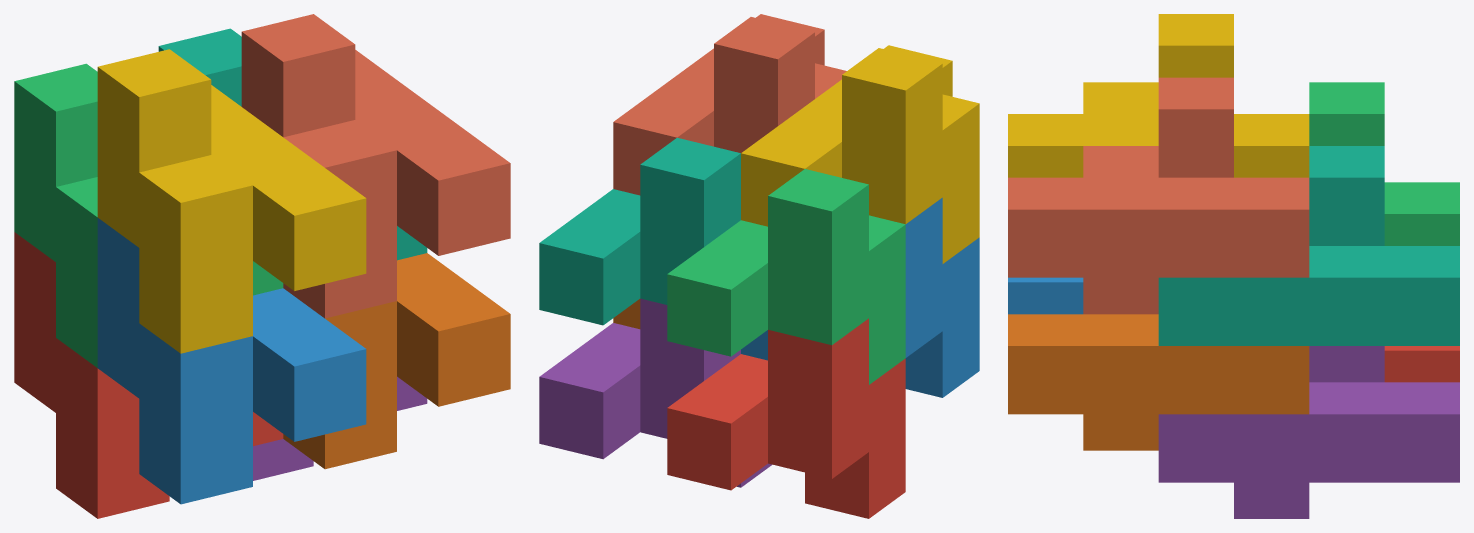
Rendered from tiling.obj.
The picture shows the model from 3 angles, left to right: view 1: azimuth 30°, elevation 25°; view 2: azimuth 150°, elevation 25°; view 3: azimuth 270°, elevation 25°; orthographic projection. The views are drawn at different scales.
Visible parts, largest first — view 1: copy_1_domain_4, copy_1_domain_8, copy_1_domain_2, copy_1_domain_6, copy_1_domain_3, copy_1_domain_1, copy_1_domain_7, copy_1_domain_5; view 2: copy_1_domain_3, copy_1_domain_1, copy_1_domain_4, copy_1_domain_7, copy_1_domain_8, copy_1_domain_5, copy_1_domain_2, copy_1_domain_6; view 3: copy_1_domain_8, copy_1_domain_7, copy_1_domain_5, copy_1_domain_6, copy_1_domain_4, copy_1_domain_3, copy_1_domain_2, copy_1_domain_1.
Boxes of the visible parts, <box> form: copy_1_domain_4: <box>97,49,366,353</box>; copy_1_domain_8: <box>241,14,510,318</box>; copy_1_domain_2: <box>97,218,366,504</box>; copy_1_domain_6: <box>283,253,510,469</box>; copy_1_domain_3: <box>14,63,283,367</box>; copy_1_domain_1: <box>14,232,283,518</box>; copy_1_domain_7: <box>158,28,427,260</box>; copy_1_domain_5: <box>253,376,427,480</box>; copy_1_domain_3: <box>667,169,905,384</box>; copy_1_domain_1: <box>667,318,905,518</box>; copy_1_domain_4: <box>741,45,979,263</box>; copy_1_domain_7: <box>539,137,740,325</box>; copy_1_domain_8: <box>613,14,846,195</box>; copy_1_domain_5: <box>539,298,771,487</box>; copy_1_domain_2: <box>741,197,979,397</box>; copy_1_domain_6: <box>613,299,640,329</box>; copy_1_domain_8: <box>1008,77,1309,314</box>; copy_1_domain_7: <box>1158,146,1459,345</box>; copy_1_domain_5: <box>1158,346,1459,518</box>; copy_1_domain_6: <box>1008,314,1309,450</box>; copy_1_domain_4: <box>1008,14,1309,177</box>; copy_1_domain_3: <box>1309,82,1459,245</box>; copy_1_domain_2: <box>1008,277,1083,314</box>; copy_1_domain_1: <box>1384,346,1459,382</box>.
Bounding box in the file's own units: 4 × 6 × 6.
